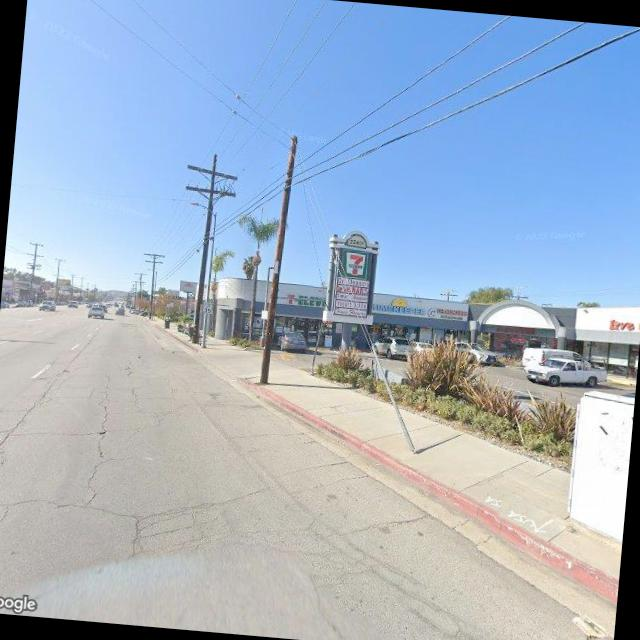crack: (0, 361, 266, 587)
